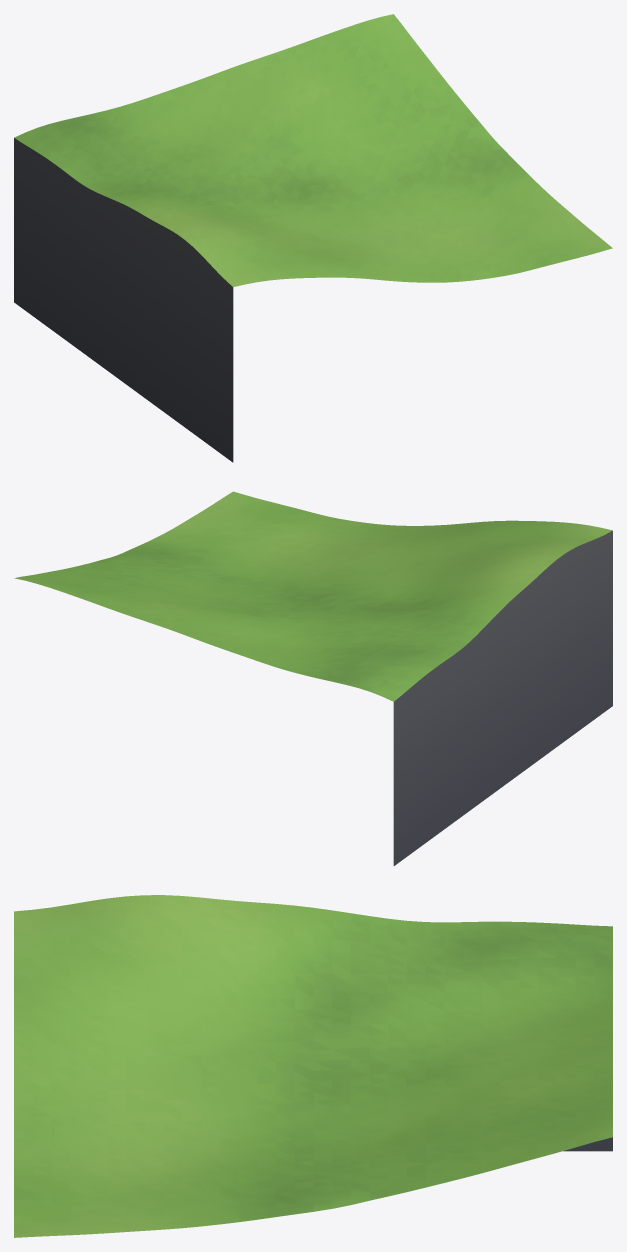
File: terrain_r3_c0.glb
The picture shows the model from 3 angles, top to bottom: view 1: azimuth 30°, elevation 25°; view 2: azimuth 150°, elevation 25°; view 3: azimuth 270°, elevation 25°; orthographic projection. The views are drawn at different scales.
Visible parts, largest first — view 1: terrain_r3_c0; view 2: terrain_r3_c0; view 3: terrain_r3_c0.
Part boxes in pixels (x1=…): terrain_r3_c0: x1=14, y1=14, x2=612, y2=462; terrain_r3_c0: x1=14, y1=491, x2=612, y2=865; terrain_r3_c0: x1=14, y1=895, x2=612, y2=1237.
Bounding box in the file's own units: 128 × 63.11 × 128.
Materials: 1 (1 with a texture image).
